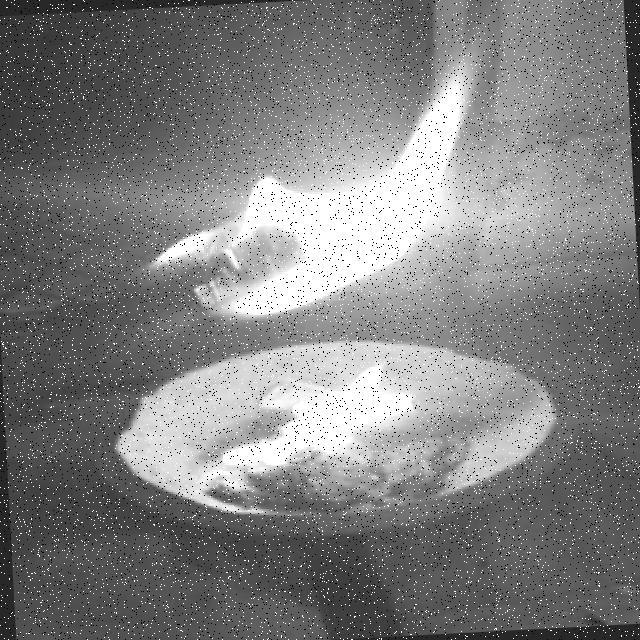Fire: (150, 28, 517, 334), (227, 361, 426, 469)
